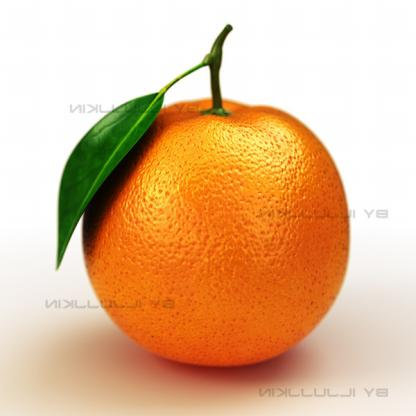orange: (78, 94, 358, 377)
